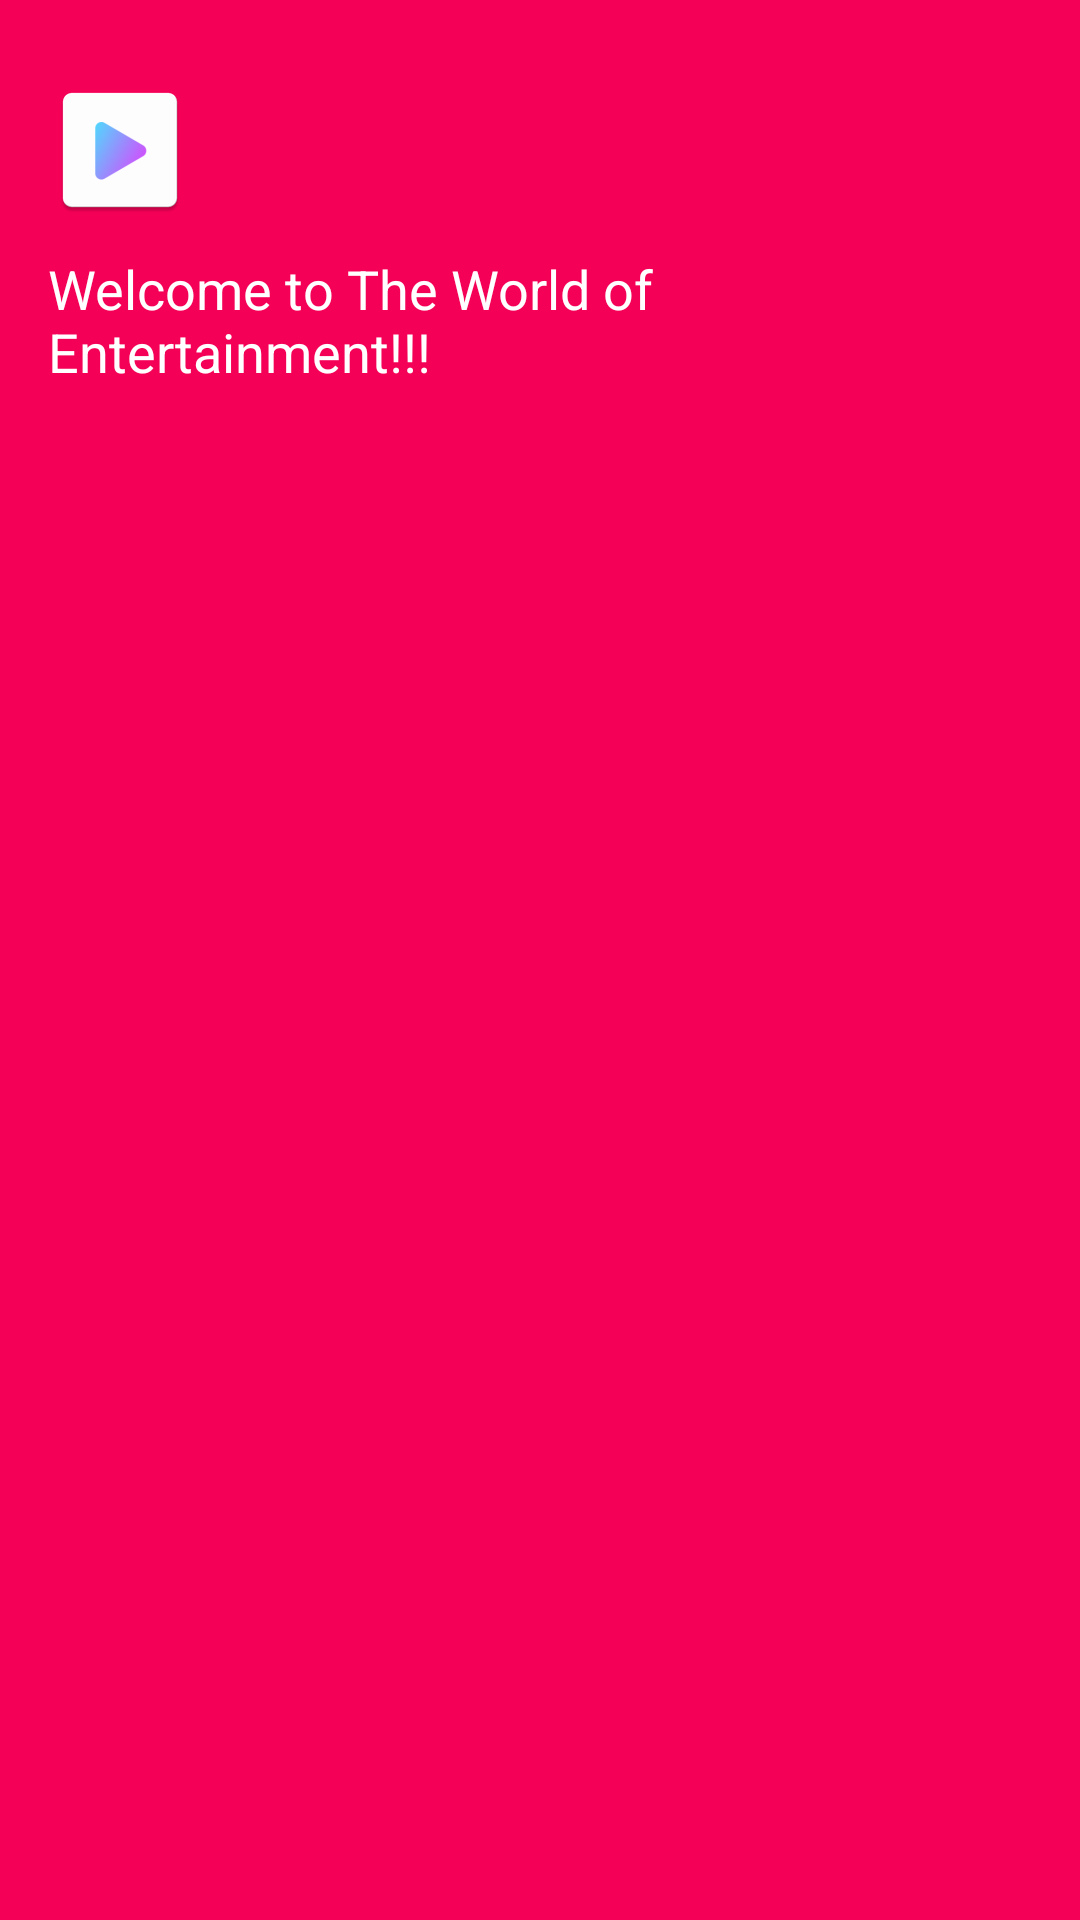

Icons on this 1080 x 1920 Android screen, each with its box as (x1, y1, x2, y2):
video player: (62, 92, 178, 211)
